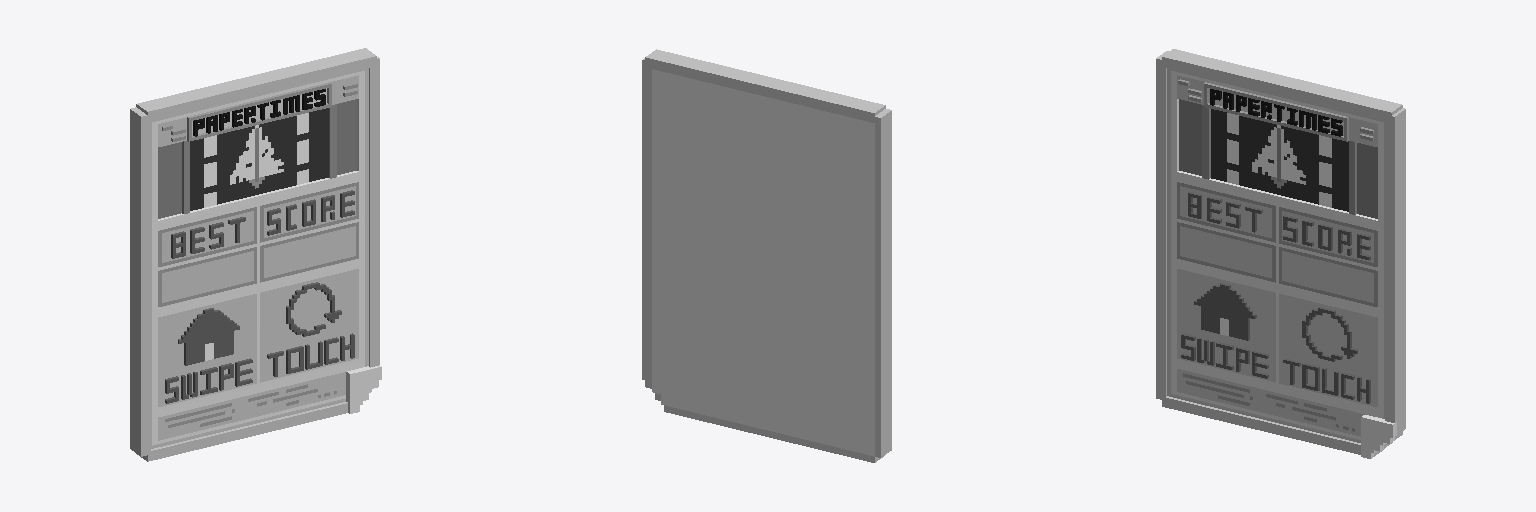
The picture shows the model from 3 angles: view 1: azimuth 30°, elevation 25°; view 2: azimuth 150°, elevation 25°; view 3: azimuth 330°, elevation 25°; orthographic projection.
Bounding box in the file's own units: 75 × 105 × 7.
1 materials, 1 textured.